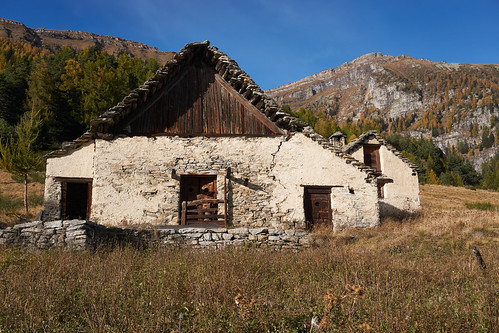building: (31, 36, 431, 246)
grass: (1, 231, 499, 333)
mountain: (274, 35, 475, 100)
sky: (3, 1, 498, 57)
vegetation: (1, 51, 168, 177)
